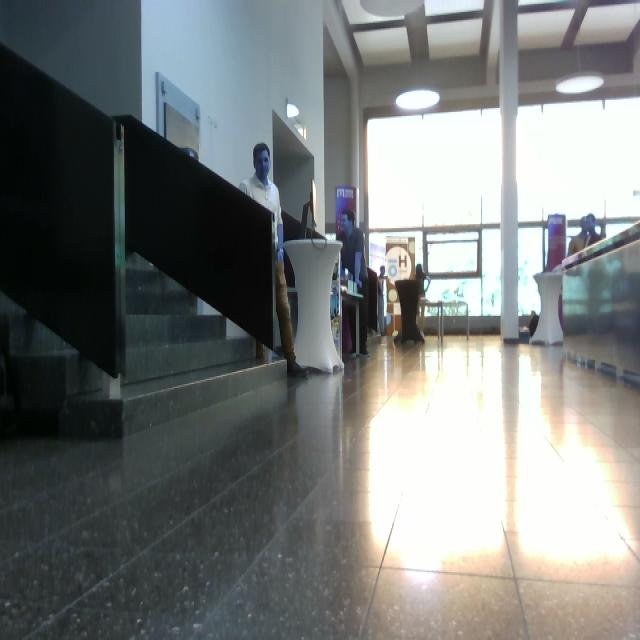door: (114, 113, 267, 385)
light bulb: (555, 45, 605, 96), (360, 1, 425, 20), (556, 73, 605, 94), (396, 89, 440, 110), (287, 103, 300, 119)
person: (239, 143, 310, 379), (340, 209, 371, 358)
pillar: (498, 1, 521, 344)
table: (282, 237, 348, 378)
tiled floor: (1, 329, 639, 638)
